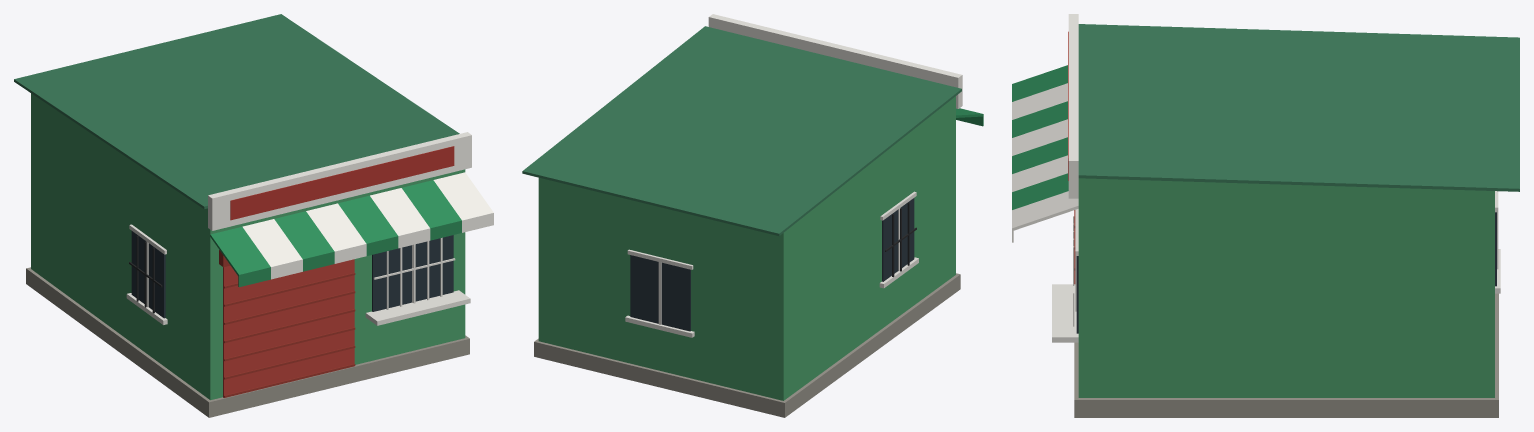
File: BAY_F_Shop_A.glb
3 views of the same model, side by side, from view 1: azimuth 30°, elevation 25°; view 2: azimuth 150°, elevation 25°; view 3: azimuth 270°, elevation 25° (orthographic). The views are drawn at different scales.
Visible parts, largest first — view 1: BAY_F_Shop_A; view 2: BAY_F_Shop_A; view 3: BAY_F_Shop_A.
Boxes of the visible parts, x1,y1,x2,y2 form: BAY_F_Shop_A: [14, 14, 493, 417]; BAY_F_Shop_A: [522, 14, 983, 417]; BAY_F_Shop_A: [1012, 14, 1519, 417].
Size of the model in its own units: 4.3 by 3.4 by 6.1.
1 material, 1 textured.
